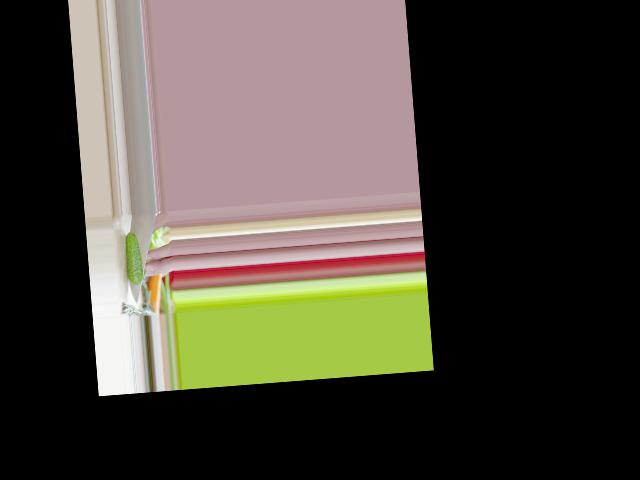cucumber: (123, 231, 143, 285)
